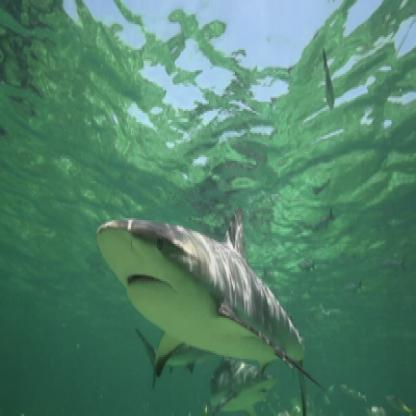shark: (94, 195, 342, 415)
